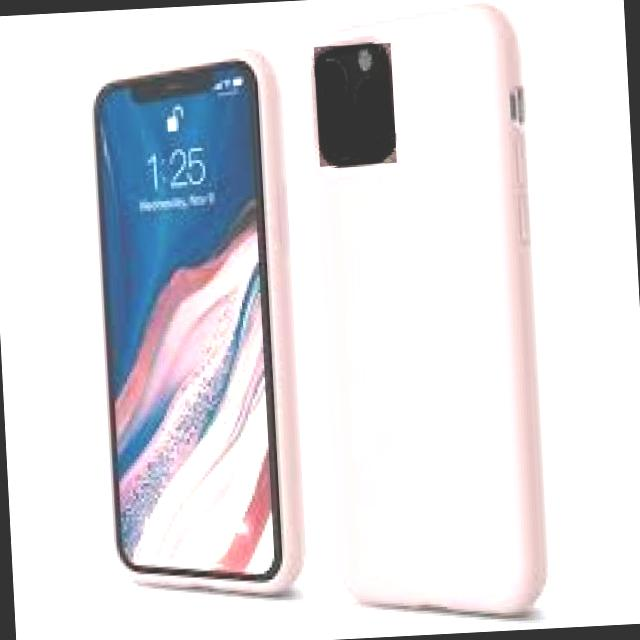lens_back: (316, 51, 354, 101), (141, 76, 163, 98)
phone: (294, 0, 559, 629), (80, 39, 316, 612)
